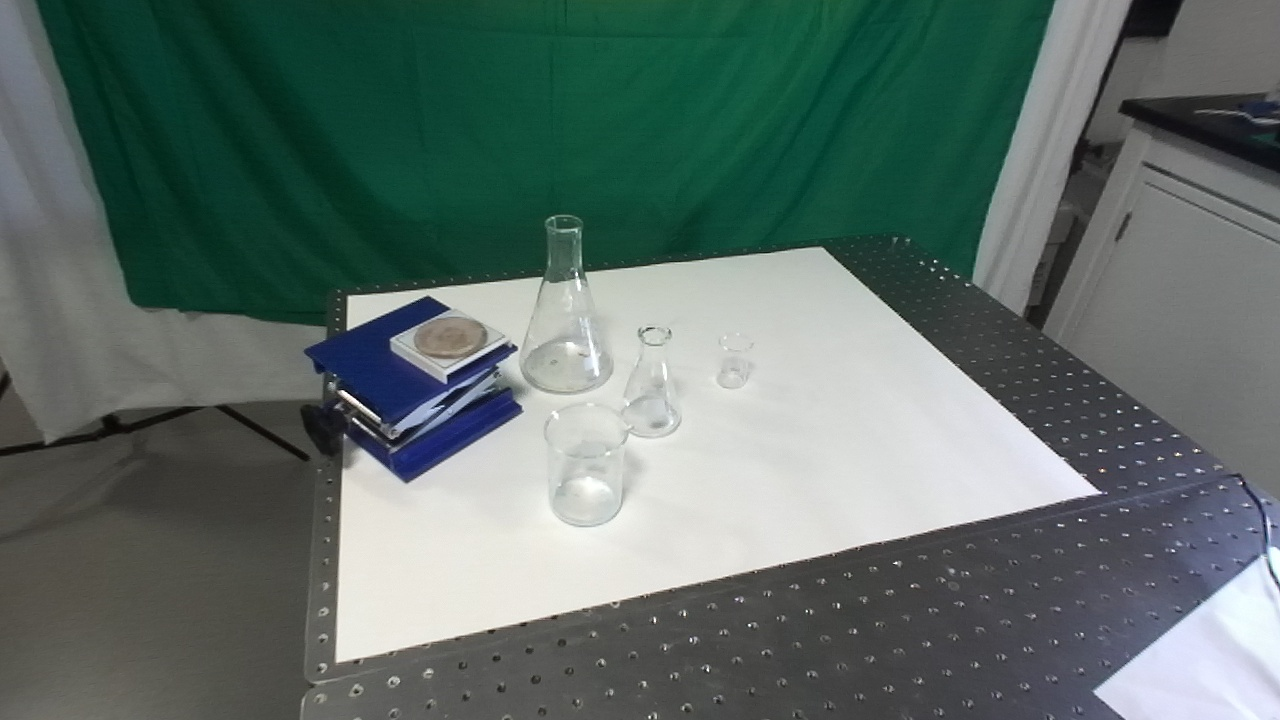glass: (515, 212, 617, 398), (538, 399, 635, 531), (615, 319, 687, 442), (713, 327, 758, 394)
plate: (385, 302, 518, 389)
